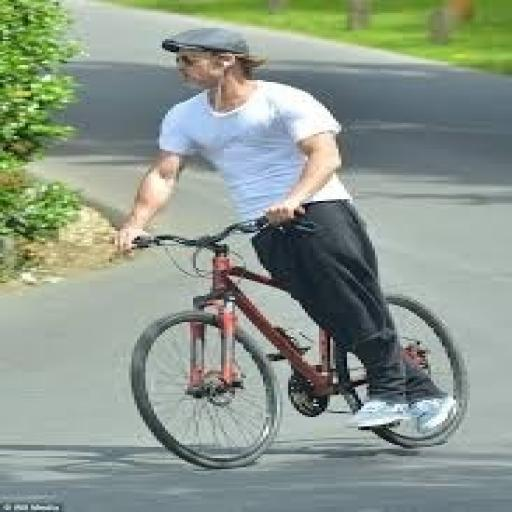cycling: (109, 26, 462, 434)
